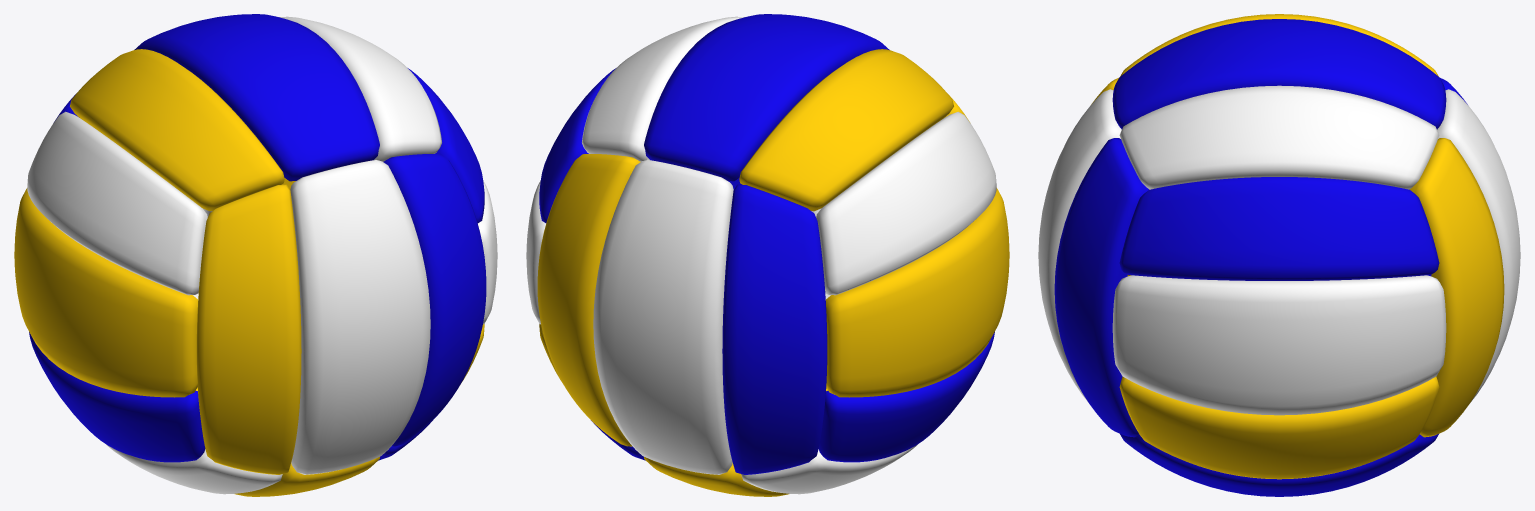
File: voleyball ball.fbx
3 renders of one model, left to right at view 1: azimuth 30°, elevation 25°; view 2: azimuth 150°, elevation 25°; view 3: azimuth 270°, elevation 25°, orthographic.
Visible parts, largest first — view 1: Object009; view 2: Object009; view 3: Object009.
Part boxes in pixels (x1=…): Object009: x1=14, y1=14, x2=497, y2=496; Object009: x1=526, y1=14, x2=1009, y2=496; Object009: x1=1038, y1=14, x2=1520, y2=496.
Size of the model in its own units: 43.73 by 43.73 by 43.73.
